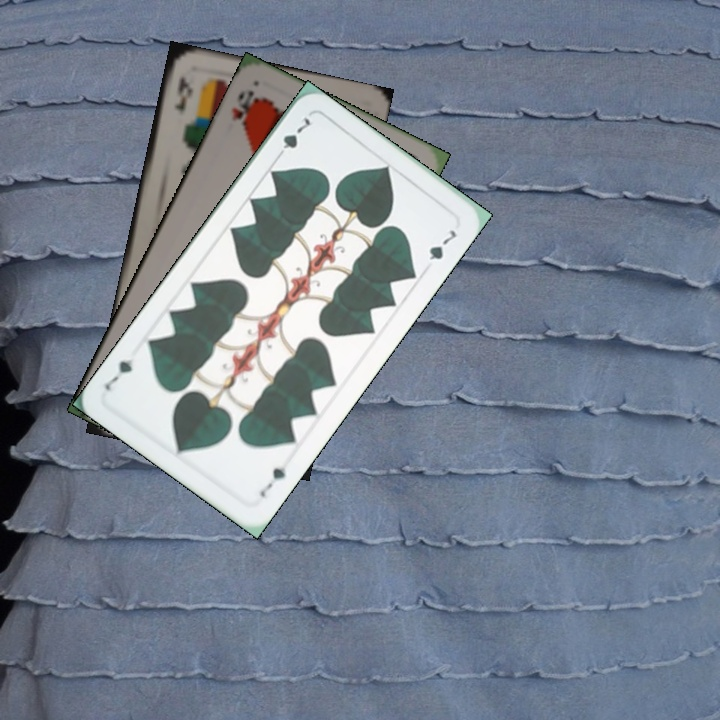EK: (170, 72, 195, 118)
G7: (271, 113, 314, 163), (255, 463, 289, 500)
HO: (227, 85, 260, 133)
